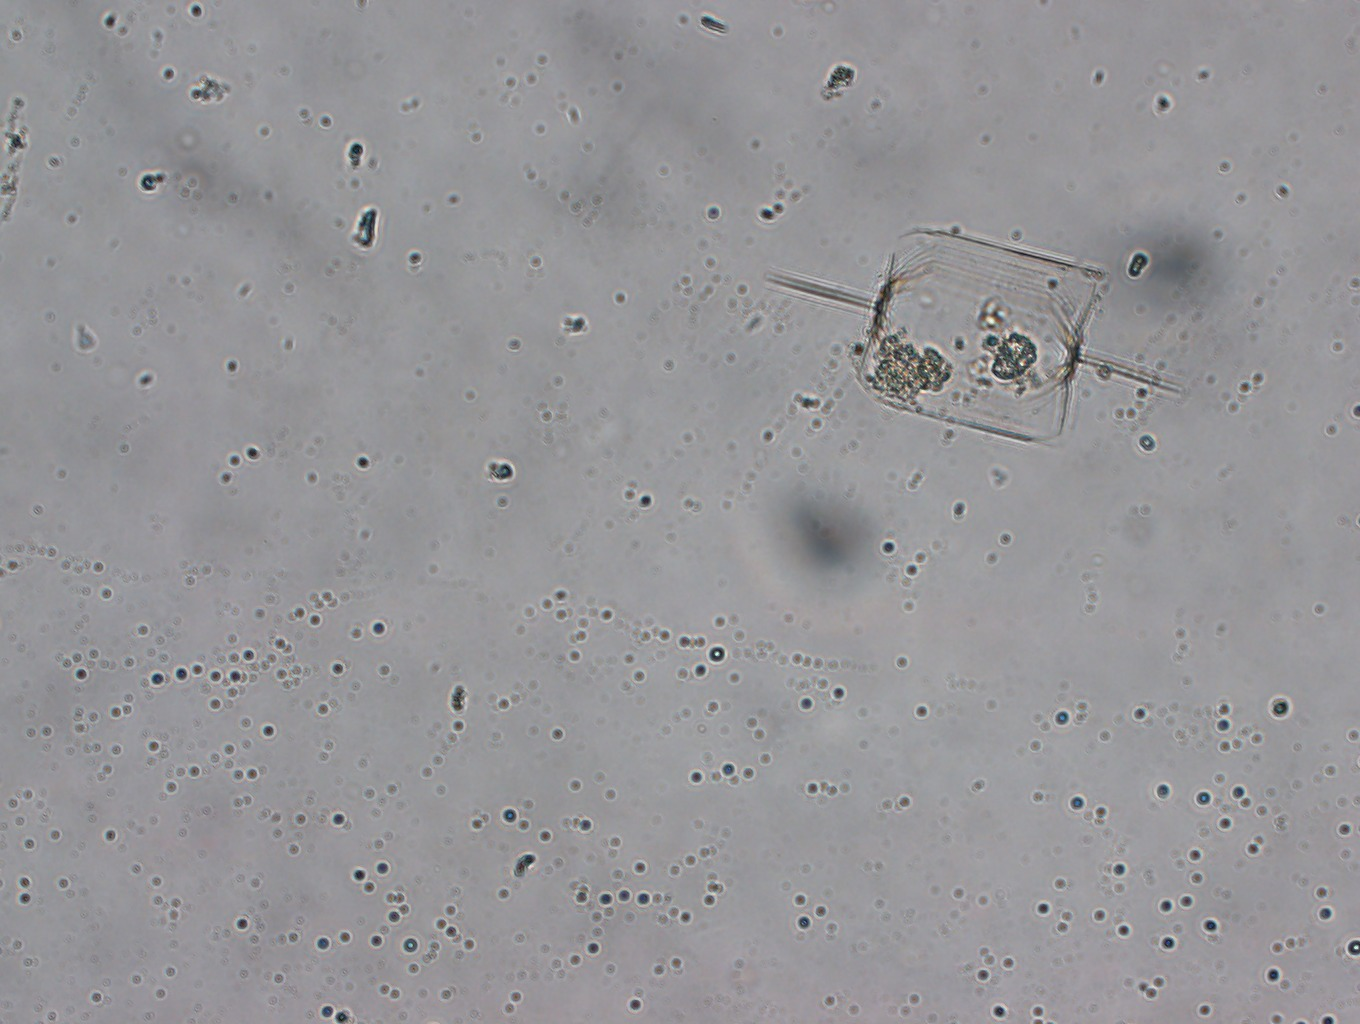ditylum: (764, 229, 1184, 443)
